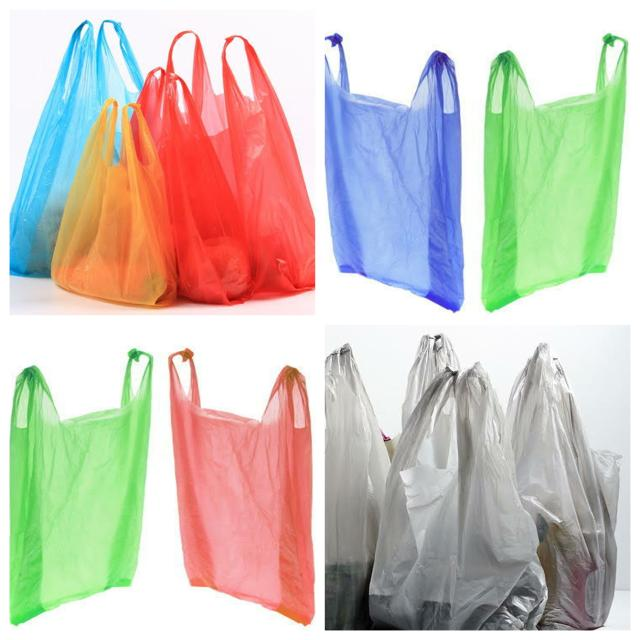Single-layer Plastic: (370, 364, 546, 630), (481, 35, 628, 311), (169, 349, 315, 624), (10, 349, 152, 624), (325, 35, 464, 311), (10, 20, 144, 276), (506, 344, 620, 630), (191, 35, 315, 296), (139, 52, 251, 304), (51, 99, 178, 306), (325, 344, 390, 630), (401, 334, 460, 428)
